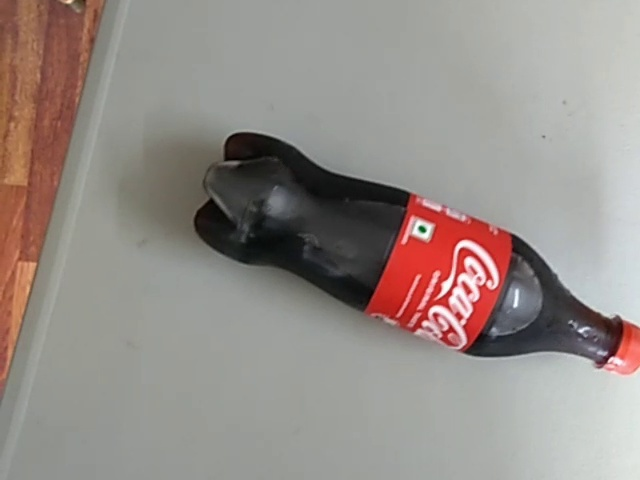Cocacola: (188, 123, 640, 407)
